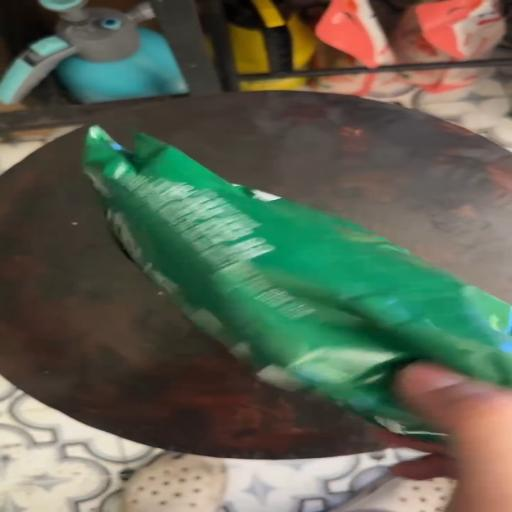cafe_xay: (84, 126, 511, 440)
